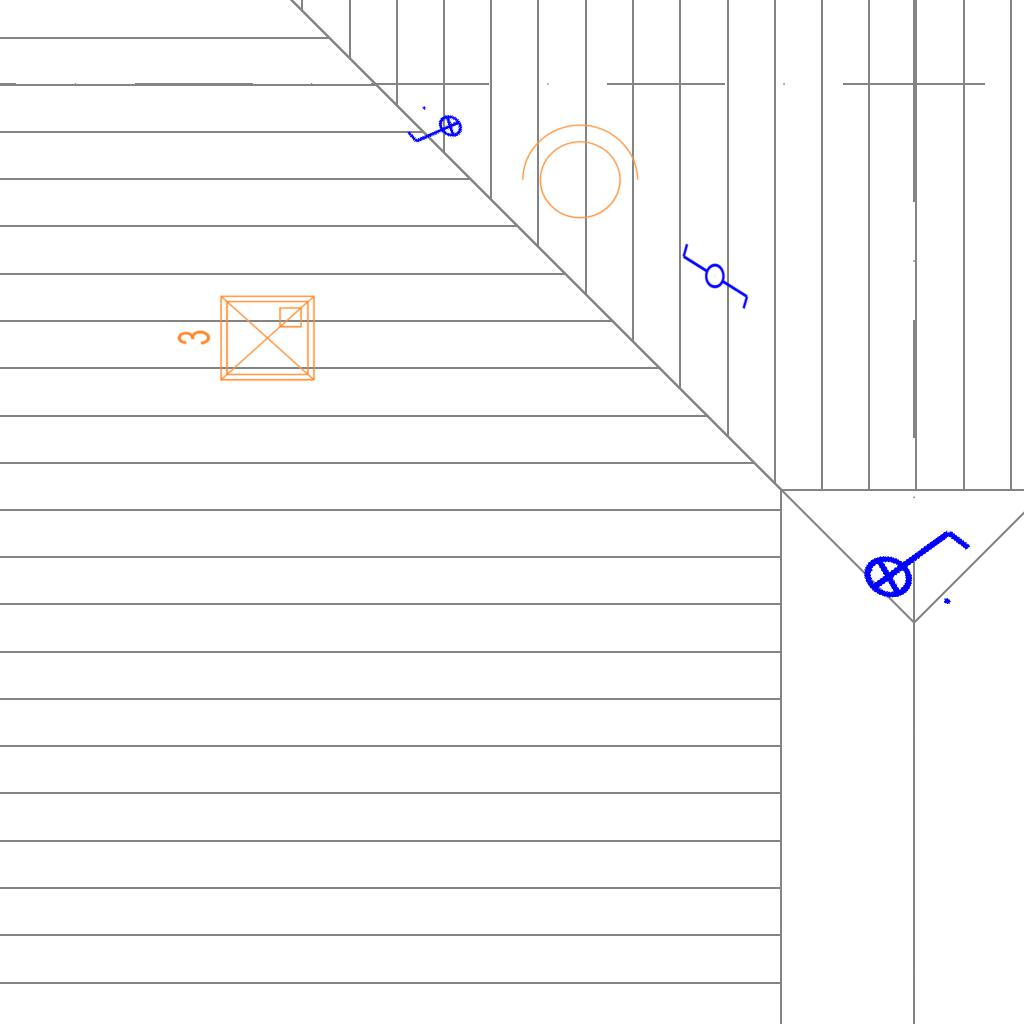Ausschalter_beleuchtet: (844, 493, 984, 625), (399, 96, 473, 168)
Einbaudownlights_LED_Konferenzraeume: (172, 288, 322, 392)
Scheinwerfer_fuer_Alarmbeleuchtung: (511, 119, 643, 231)
Wechselschalter: (680, 233, 752, 311)
